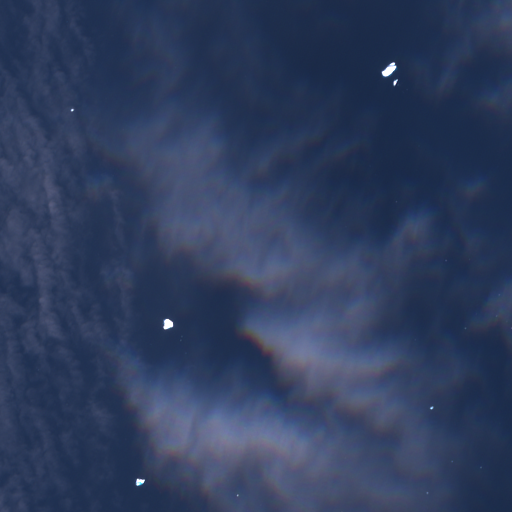Iceberg: (381, 62, 396, 76), (162, 318, 173, 329), (135, 478, 144, 485), (393, 79, 398, 86), (70, 108, 74, 111), (429, 406, 433, 409), (464, 327, 466, 329), (236, 494, 238, 496), (451, 460, 452, 462), (480, 466, 481, 468), (426, 492, 428, 493), (445, 260, 446, 261)
